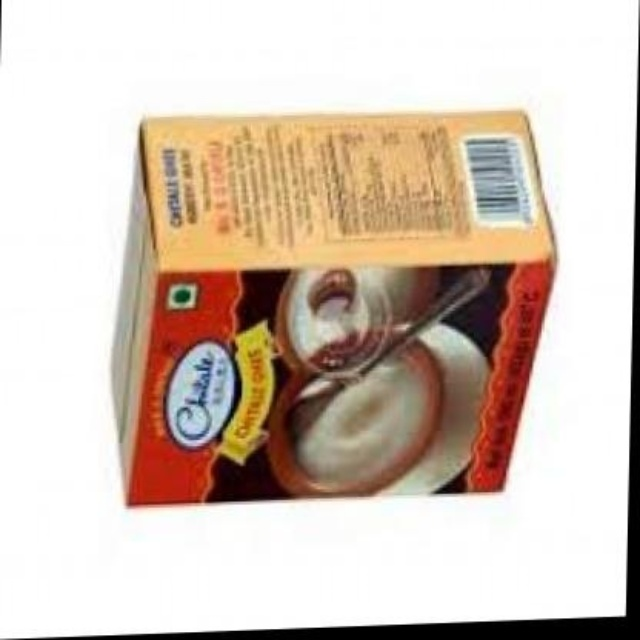trash: (118, 111, 554, 503)
